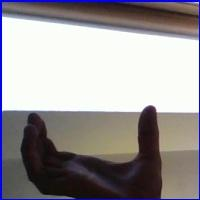space: (12, 101, 175, 195)
